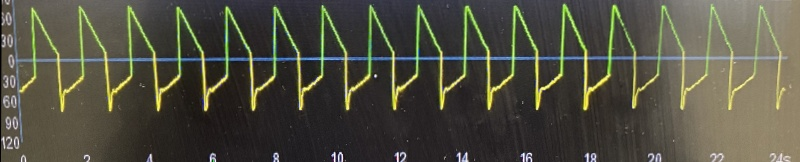peepi: (15, 0, 794, 116)
